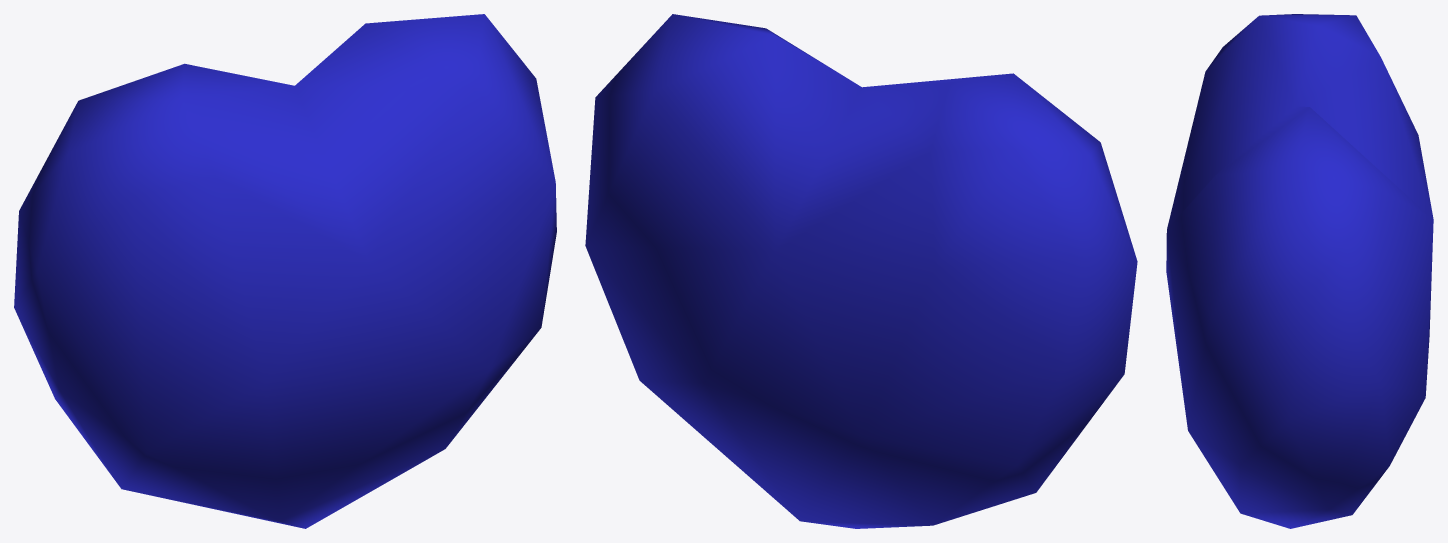
The model's file is heart.fbx.
The picture shows the model from 3 angles, left to right: view 1: azimuth 30°, elevation 25°; view 2: azimuth 150°, elevation 25°; view 3: azimuth 270°, elevation 25°; orthographic projection. The views are drawn at different scales.
Parts seen in each view (by area): view 1: Heart; view 2: Heart; view 3: Heart.
Part boxes in pixels (left/top/right/bottom): Heart: left=14, top=14, right=556, bottom=528; Heart: left=585, top=14, right=1137, bottom=528; Heart: left=1166, top=14, right=1433, bottom=528.
Bounding box in the file's own units: 198 × 173 × 92.4.
